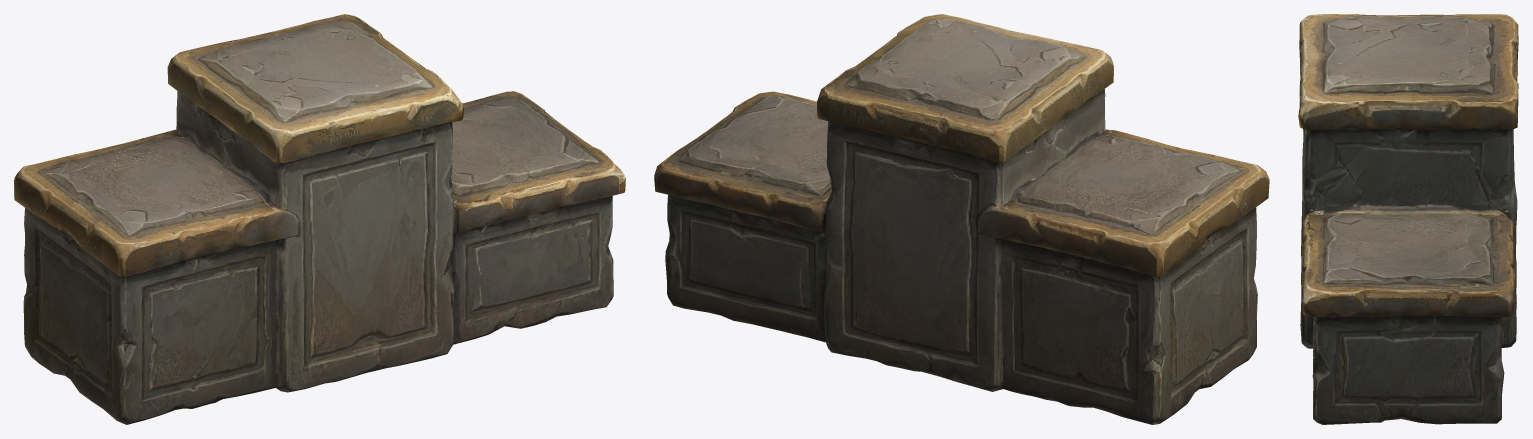
The model's file is arena_podium.glb.
The picture shows the model from 3 angles, left to right: view 1: azimuth 30°, elevation 25°; view 2: azimuth 150°, elevation 25°; view 3: azimuth 270°, elevation 25°; orthographic projection. The views are drawn at different scales.
Parts seen in each view (by area): view 1: texture_mapping; view 2: texture_mapping; view 3: texture_mapping.
Boxes of the visible parts, box(x1,y1,x2,y2) form: texture_mapping: box(14, 14, 625, 424); texture_mapping: box(654, 14, 1269, 424); texture_mapping: box(1298, 14, 1518, 424).
Size of the model in its own units: 1 by 0.5249 by 0.3898.
1 material, 1 textured.
